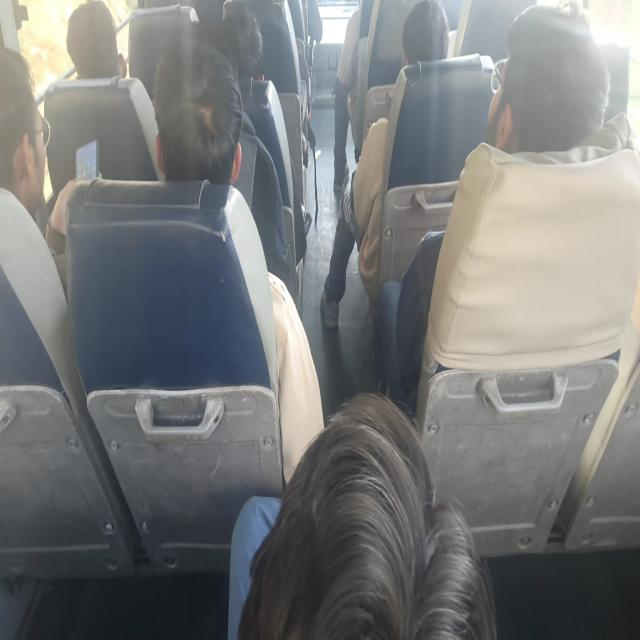person: (254, 379, 486, 640), (472, 8, 608, 176), (145, 16, 232, 176), (0, 63, 57, 183), (66, 3, 120, 84), (214, 6, 268, 78), (340, 0, 365, 85), (402, 2, 438, 57)
